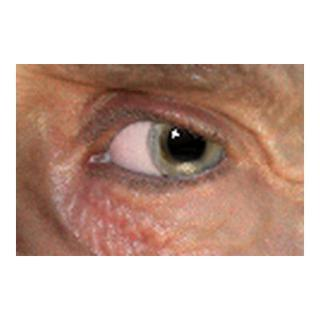pupil: (166, 122, 207, 163)
